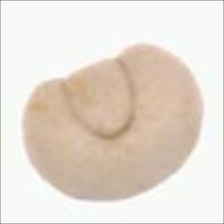L5: (57, 54, 143, 144), (119, 157, 178, 195)
L6: (13, 40, 208, 208)
